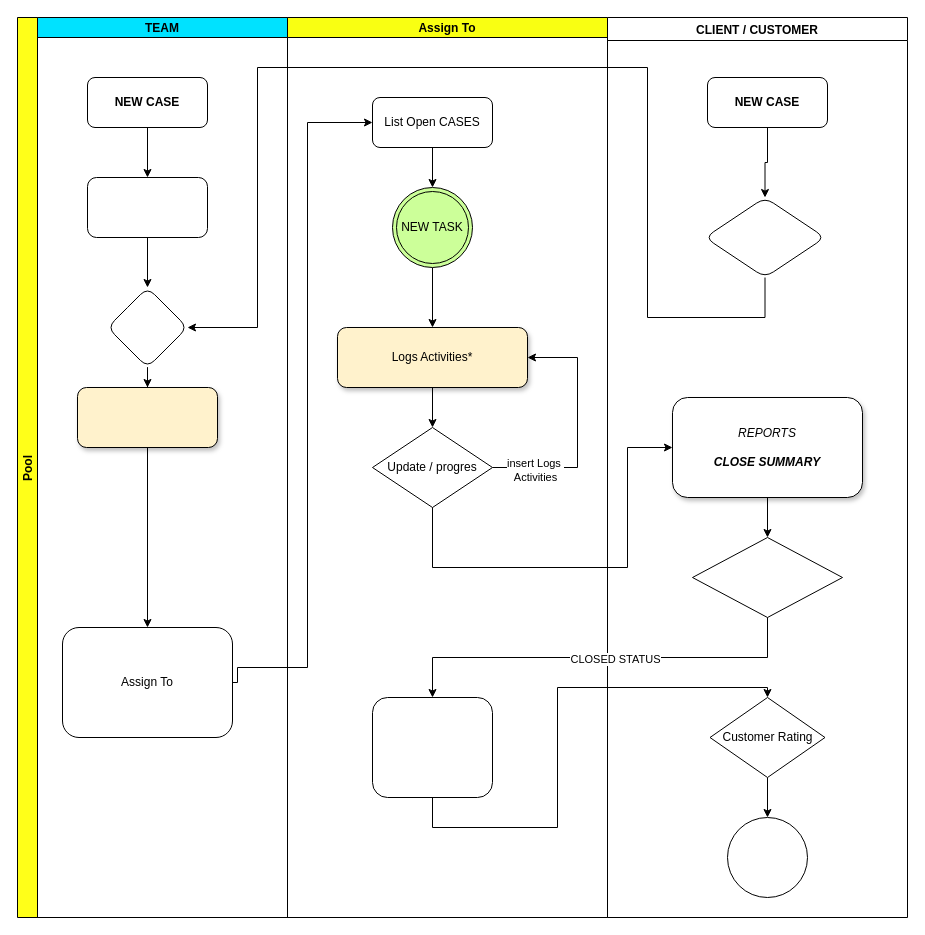
The diagram is 925 pixels wide and 935 high, and some of its shapes have lost their labels. Each missing label, with the centre of its shape:
"CASE DETAIL (Draft)" goes at (x=147, y=207).
"CLOSED CASES" goes at (x=767, y=857).
"Closed Task STOP DATETIME MANS DAY / TICKET COSE" goes at (x=432, y=747).
"Start CASED" goes at (x=147, y=327).
"SUBMIT SLA timer RUN" goes at (x=764, y=237).
"Update logs Acitviites , Open , start Date" goes at (x=148, y=418).
"Verified (customer)" goes at (x=767, y=577).
